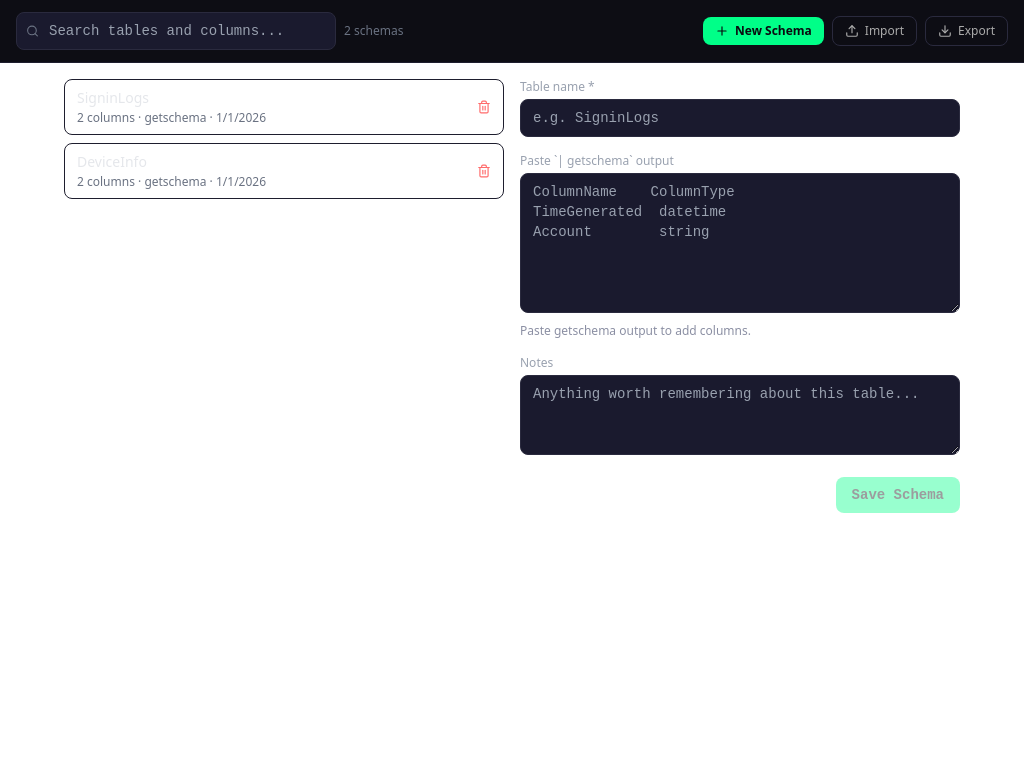
Test: deleting › DELETEs the confirmed row by name and leaves the other one alone
Check: the text "SigninLogs" is shown, box top-left (77, 88), bottom-right (149, 107)
Check: the text "DeviceInfo" is shown, box top-left (77, 152), bottom-right (147, 171)
What coordinates should you click on to do the following:
click the button named "Delete schema DeviceInfo"
I would click on:
 (484, 171)
Its box is top-left (469, 156), bottom-right (499, 186).
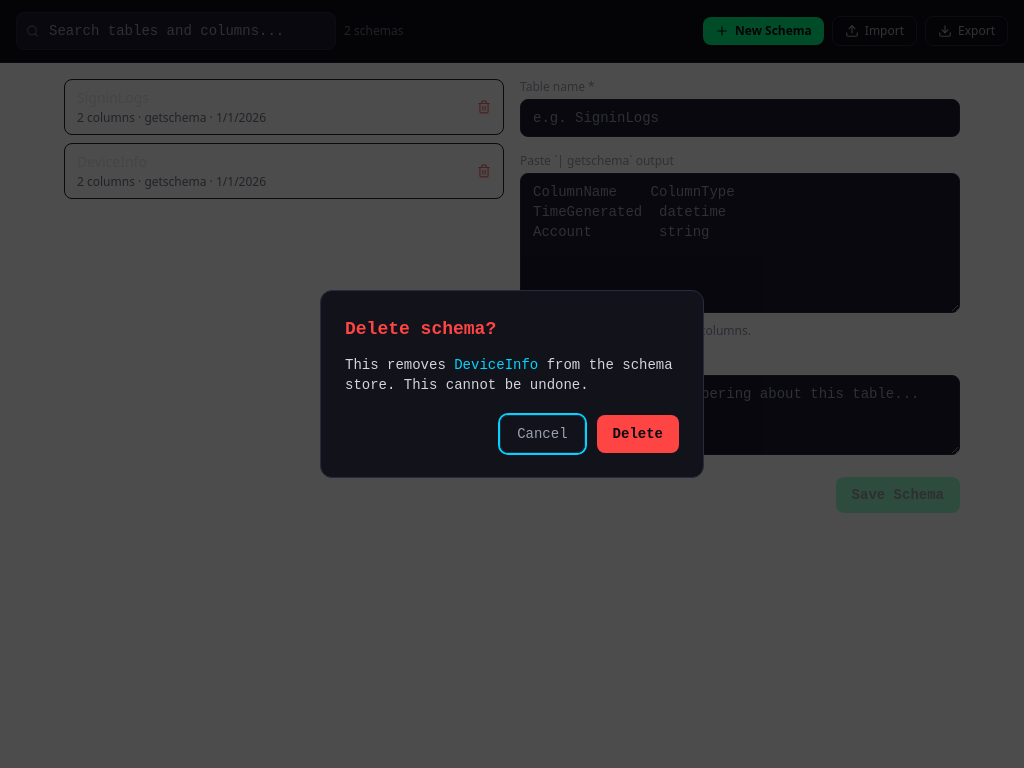
Check: the text "DeviceInfo" is shown, box top-left (454, 357), bottom-right (538, 373)
What coordinates should you click on to do the following:
click the button "Delete"
I would click on:
 (638, 434)
Its box is top-left (597, 415), bottom-right (679, 453).
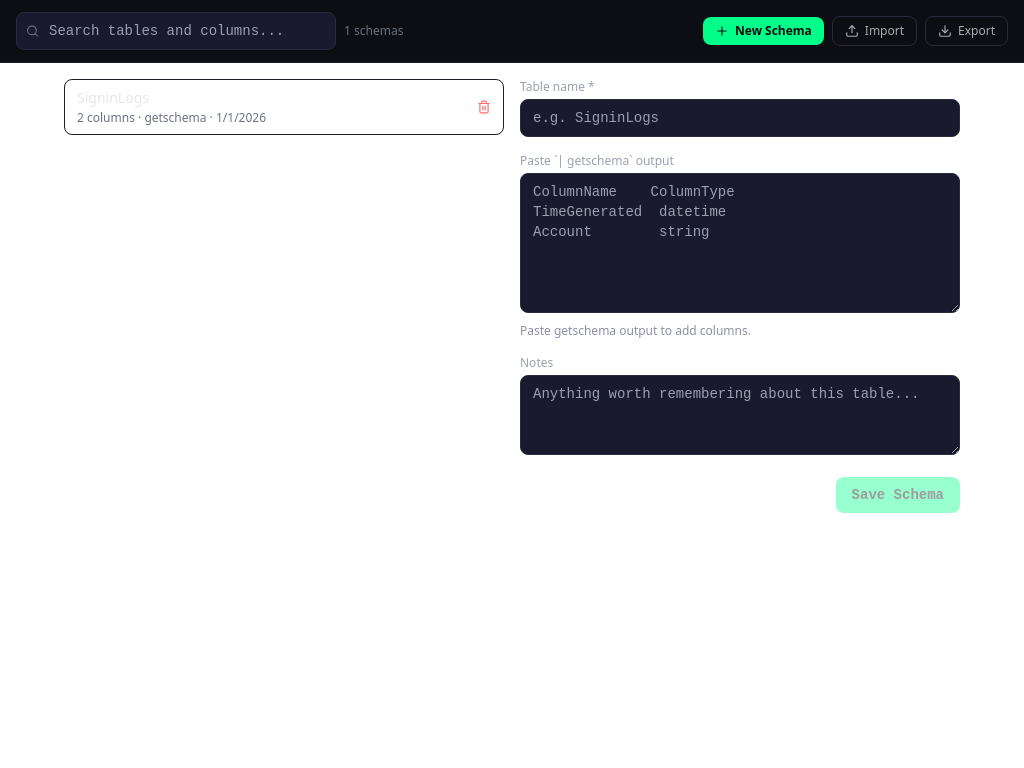
Check: the text "SigninLogs" is shown, box top-left (77, 88), bottom-right (149, 107)
Check: the button "DeviceInfo" is gone
